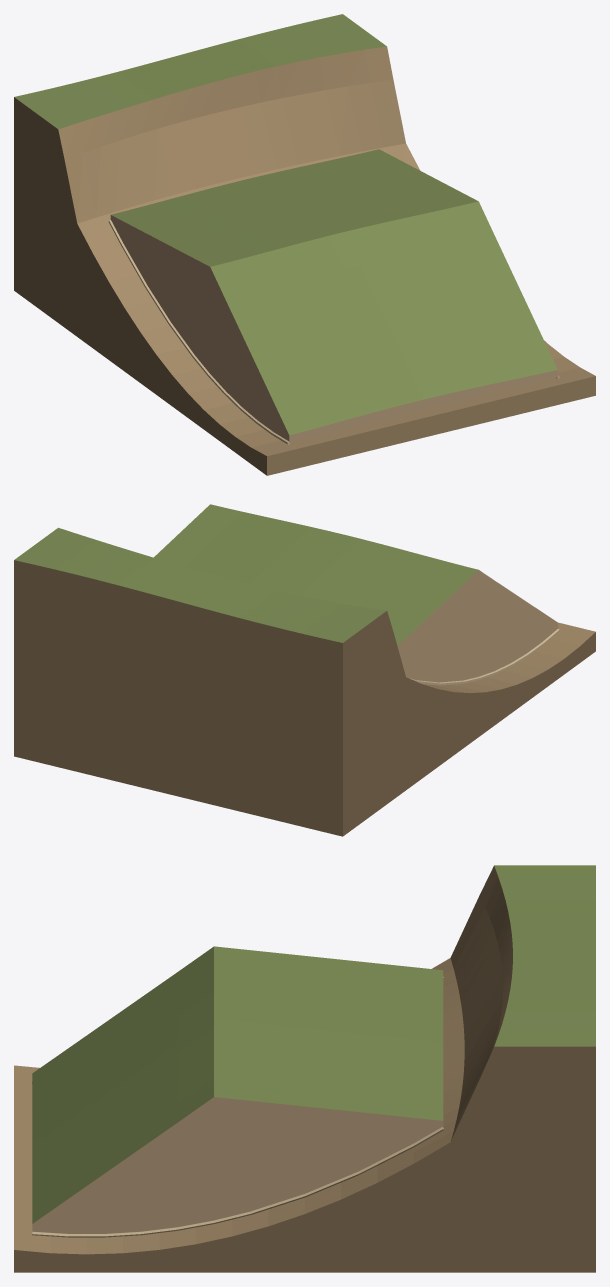
3 views of the same model, one above another, from view 1: azimuth 30°, elevation 25°; view 2: azimuth 150°, elevation 25°; view 3: azimuth 270°, elevation 25° (orthographic). The views are drawn at different scales.
Visible parts, largest first — view 1: continuous_substrate_curved_listric_scarp, coherent_displaced_backtilted_block_and_toe, exposed_curved_slip_interface_band; view 2: continuous_substrate_curved_listric_scarp, coherent_displaced_backtilted_block_and_toe, exposed_curved_slip_interface_band; view 3: coherent_displaced_backtilted_block_and_toe, continuous_substrate_curved_listric_scarp, exposed_curved_slip_interface_band.
Boxes of the visible parts, box(x1,y1,x2,y2) form: continuous_substrate_curved_listric_scarp: box(14, 14, 595, 475); coherent_displaced_backtilted_block_and_toe: box(110, 149, 557, 442); exposed_curved_slip_interface_band: box(108, 220, 559, 444); continuous_substrate_curved_listric_scarp: box(14, 527, 595, 836); coherent_displaced_backtilted_block_and_toe: box(154, 504, 557, 682); exposed_curved_slip_interface_band: box(409, 629, 559, 685); coherent_displaced_backtilted_block_and_toe: box(32, 946, 443, 1233); continuous_substrate_curved_listric_scarp: box(14, 865, 595, 1272); exposed_curved_slip_interface_band: box(32, 977, 443, 1237).
Size of the model in its own units: 12 by 6.87 by 16.
